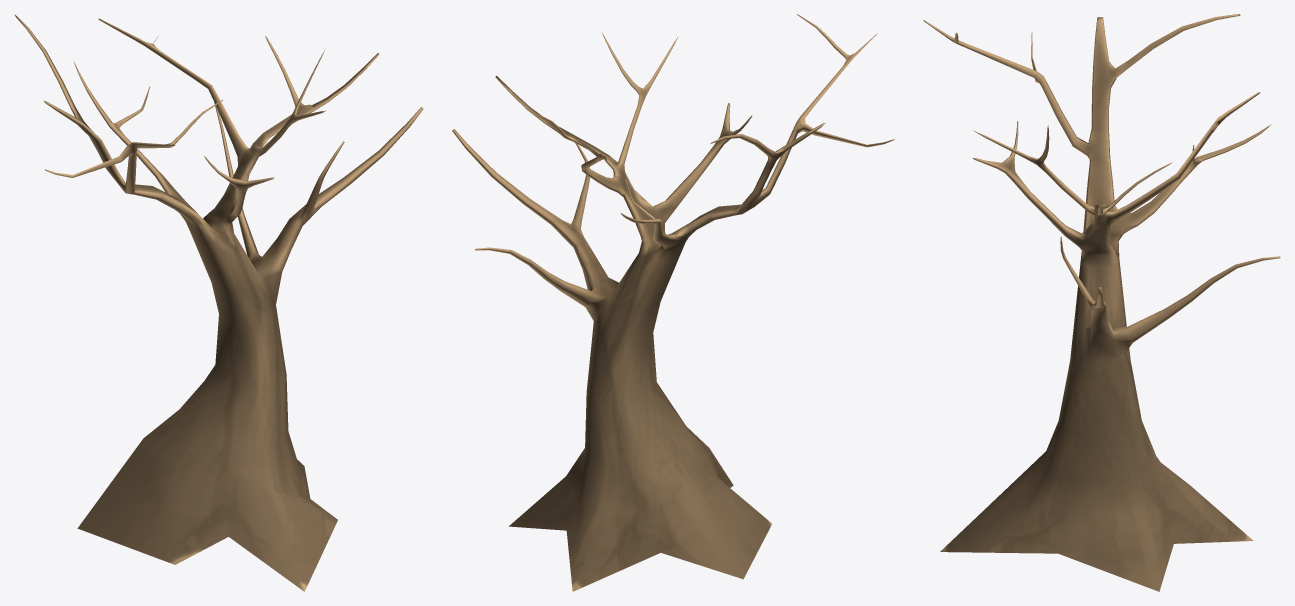
File: Trees_1.fbx
3 renders of one model, left to right at view 1: azimuth 30°, elevation 25°; view 2: azimuth 150°, elevation 25°; view 3: azimuth 270°, elevation 25°, orthographic. The views are drawn at different scales.
Parts seen in each view (by area): view 1: Pablo_Low_Tree; view 2: Pablo_Low_Tree; view 3: Pablo_Low_Tree.
Part boxes in pixels (<box>): Pablo_Low_Tree: <box>14,14,423,591</box>; Pablo_Low_Tree: <box>452,14,894,591</box>; Pablo_Low_Tree: <box>923,14,1280,591</box>.
Bounding box in the file's own units: 2391 × 2781 × 1865.
